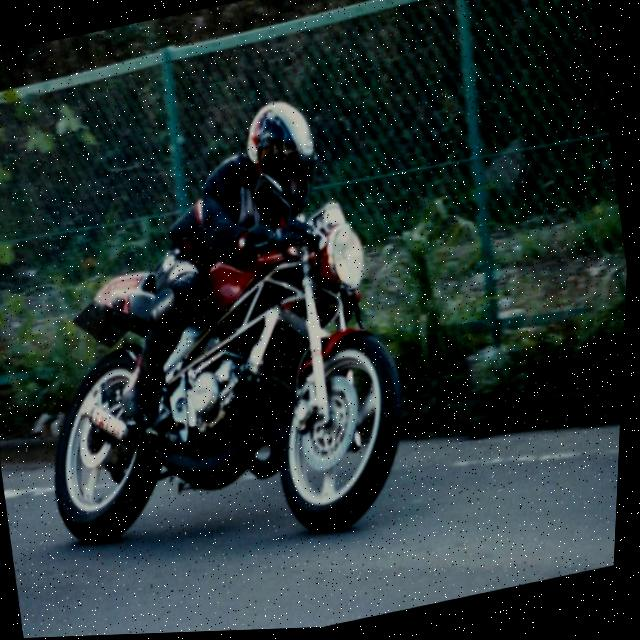motorcycle: (0, 22, 473, 595)
